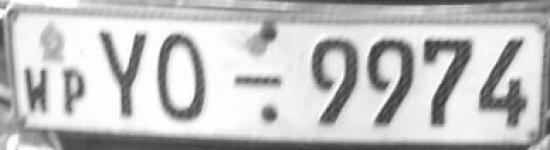-: (228, 66, 285, 97)
4: (475, 27, 533, 137)
7: (417, 30, 474, 136)
9: (300, 33, 364, 133), (364, 31, 416, 131)
O: (154, 27, 213, 129)
P: (61, 70, 91, 121)
W: (18, 62, 52, 117)
Y: (97, 24, 156, 123)
